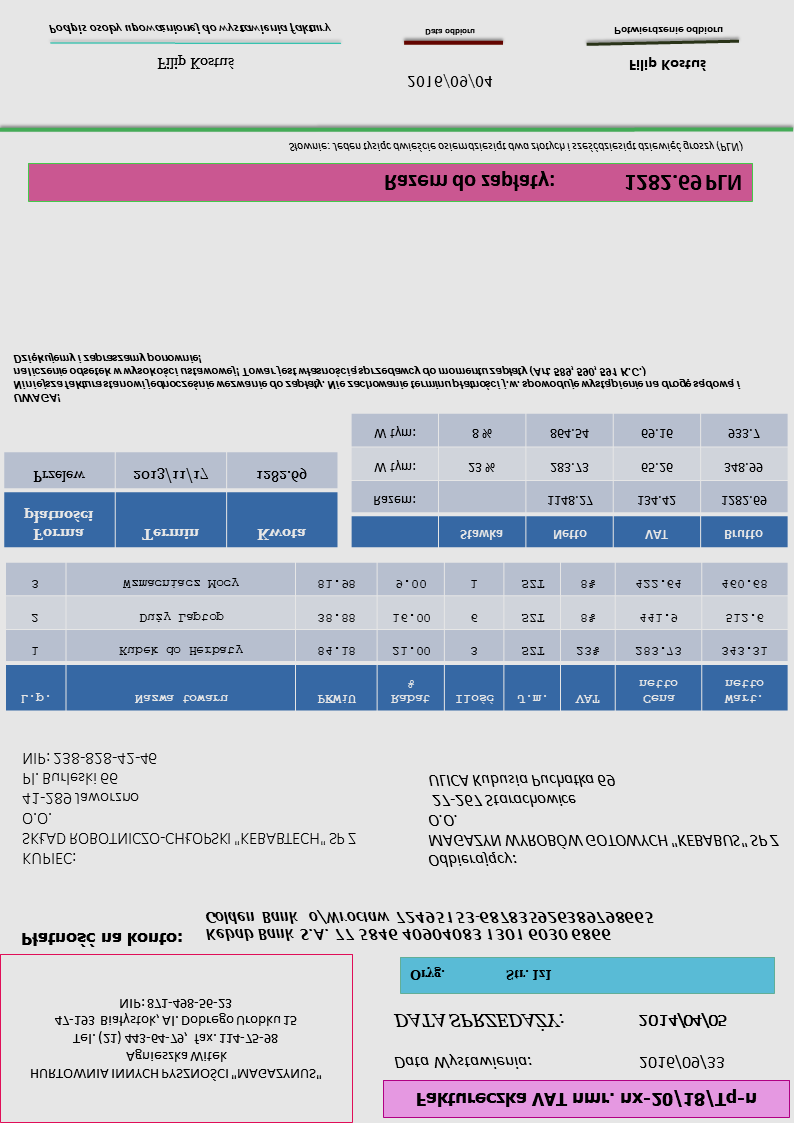Table: (4, 559, 790, 715), (349, 410, 790, 550), (2, 450, 338, 549)
TextBox: (9, 350, 744, 409), (18, 746, 359, 871), (425, 768, 784, 871), (24, 993, 324, 1083), (201, 906, 657, 944), (381, 168, 745, 199), (283, 138, 744, 159), (410, 1087, 759, 1110), (45, 19, 337, 37), (390, 1008, 565, 1035), (14, 927, 184, 951), (404, 963, 554, 988), (388, 1052, 533, 1076), (634, 1009, 730, 1034), (404, 71, 497, 96), (624, 56, 713, 77), (152, 53, 236, 75), (611, 23, 725, 39), (635, 1053, 727, 1072), (418, 24, 480, 41)
